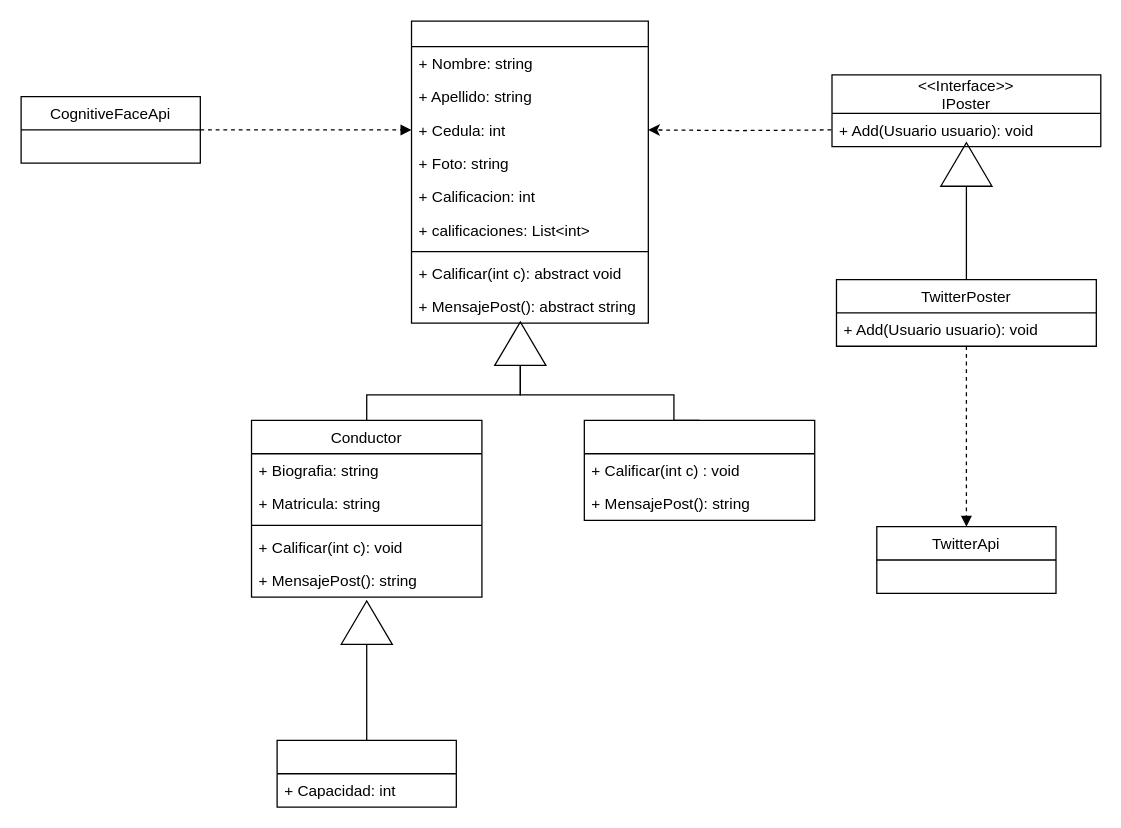
This 1121x828 diagram has some shape labels left out. Here are the shapes that lost their labels. From the top down, the box of each, then its label:
(410, 20, 648, 323): Usuario
(583, 419, 815, 520): Pasajero
(276, 739, 456, 807): Pool
